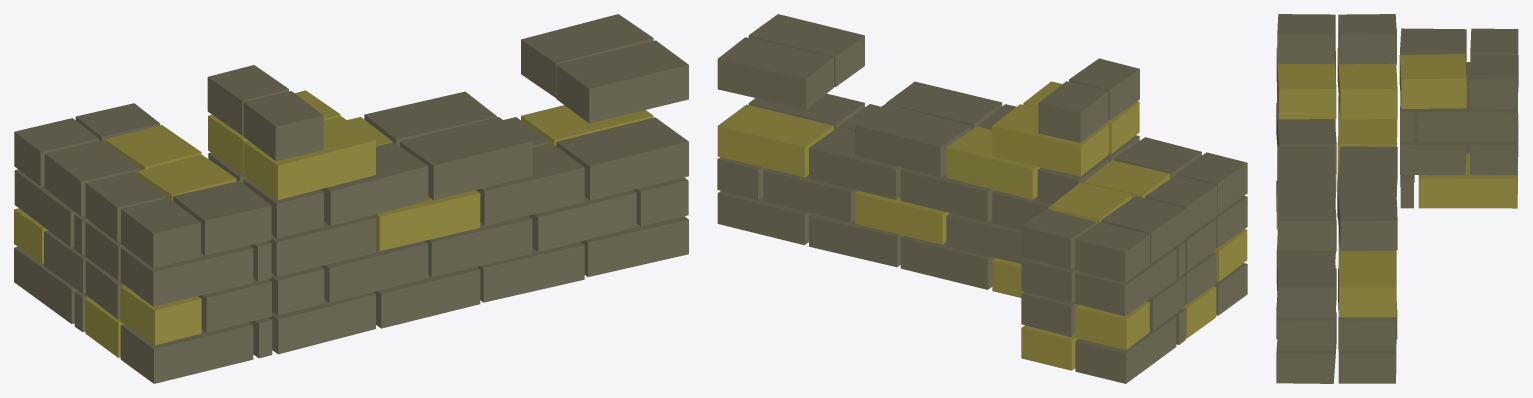
The model's file is SM_SacosRemate_v2_Irregular_e0_Sano_LOD0.fbx.
The picture shows the model from 3 angles, left to right: view 1: azimuth 30°, elevation 25°; view 2: azimuth 150°, elevation 25°; view 3: azimuth 270°, elevation 25°; orthographic projection. The views are drawn at different scales.
Parts seen in each view (by area): view 1: SM_sacos_piezas_v28_LOD0; view 2: SM_sacos_piezas_v28_LOD0; view 3: SM_sacos_piezas_v28_LOD0.
Part boxes in pixels (x1,y1,x2,y2): SM_sacos_piezas_v28_LOD0: (14,14,688,383); SM_sacos_piezas_v28_LOD0: (717,14,1247,383); SM_sacos_piezas_v28_LOD0: (1276,14,1518,383).
Bounding box in the file's own units: 4.38 × 1.77 × 1.98.
